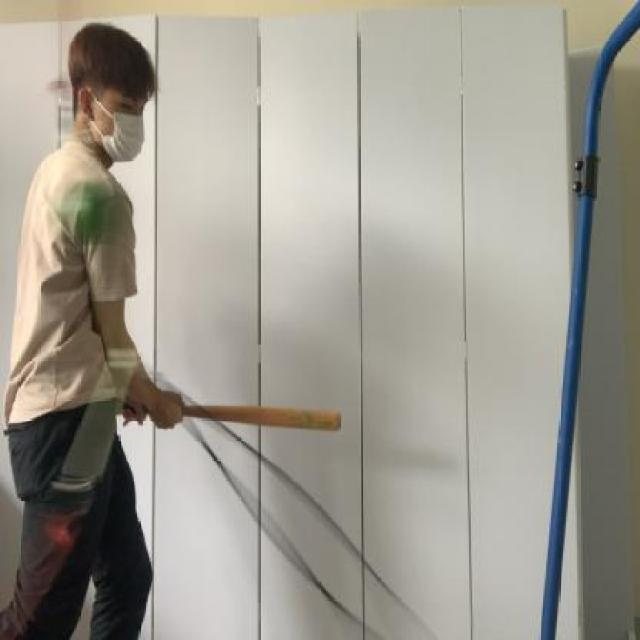baseball: (60, 171, 120, 249)
